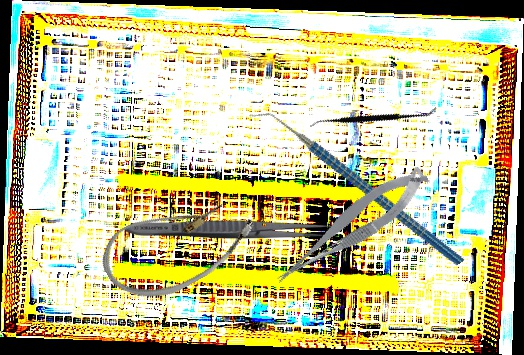Cannula: (91, 171, 265, 318)
Chopper: (247, 59, 466, 317)
Dressing Forceps: (125, 219, 332, 239)
Micro Scissor: (262, 161, 439, 290)
Spatula Surgical: (308, 56, 438, 178)
